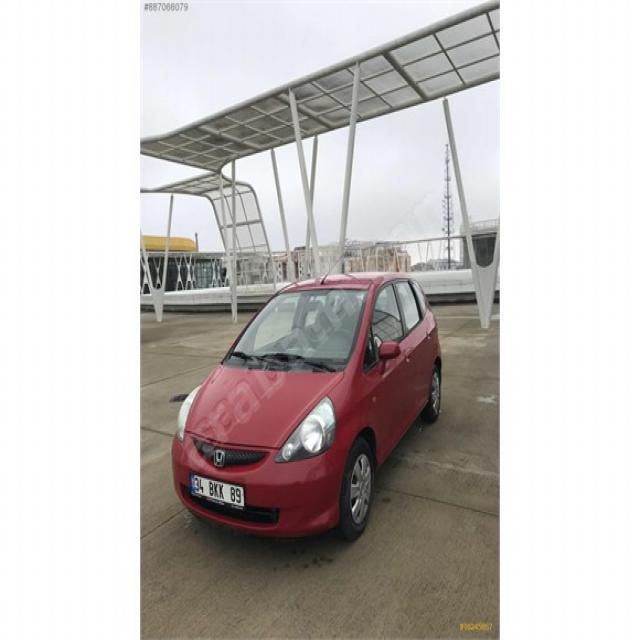plate: (188, 471, 248, 514)
